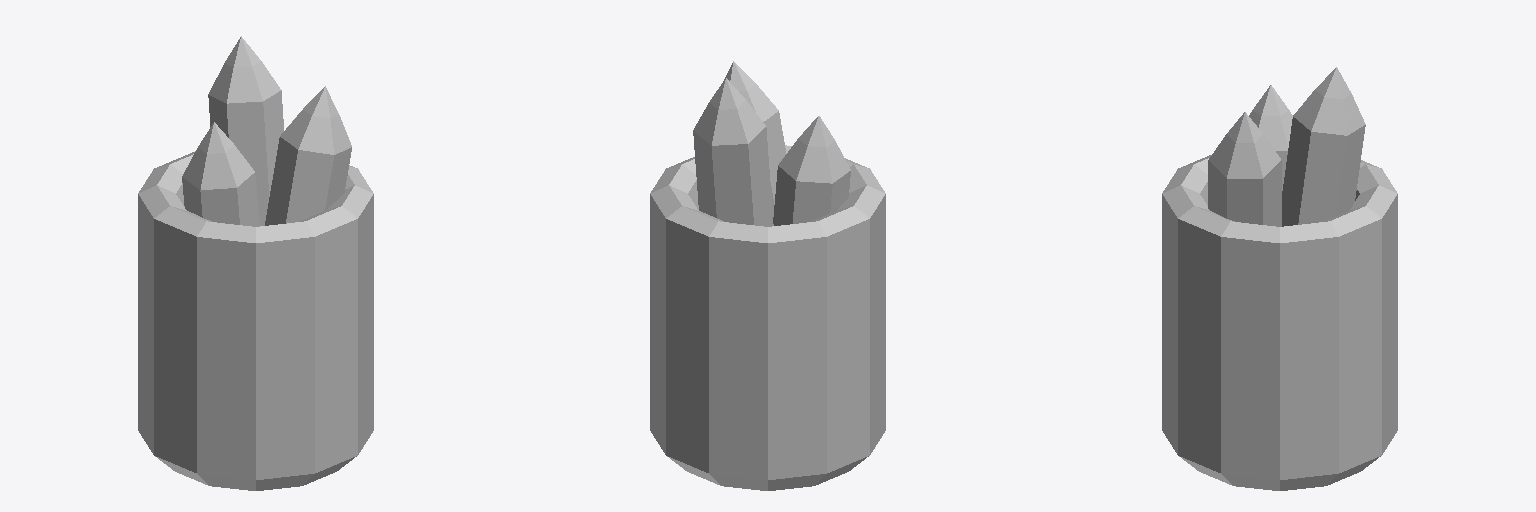
Rendered from cup_pencils.obj.
The picture shows the model from 3 angles: view 1: azimuth 30°, elevation 25°; view 2: azimuth 150°, elevation 25°; view 3: azimuth 270°, elevation 25°; orthographic projection.
Parts seen in each view (by area): view 1: cup_pencils_Cylinder.617; view 2: cup_pencils_Cylinder.617; view 3: cup_pencils_Cylinder.617.
Part boxes in pixels (x1,y1,x2,y2): cup_pencils_Cylinder.617: (138, 36, 373, 490); cup_pencils_Cylinder.617: (650, 61, 885, 490); cup_pencils_Cylinder.617: (1162, 67, 1397, 490).
Size of the model in its own units: 0.3675 by 0.6737 by 0.3675.